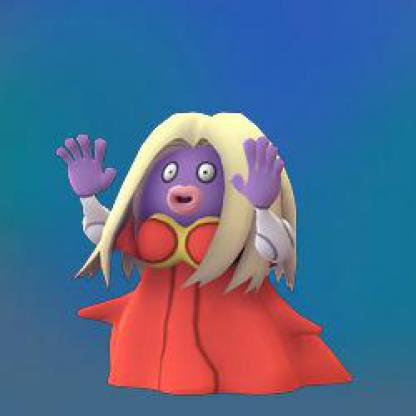Jynx: (14, 1, 399, 416)
